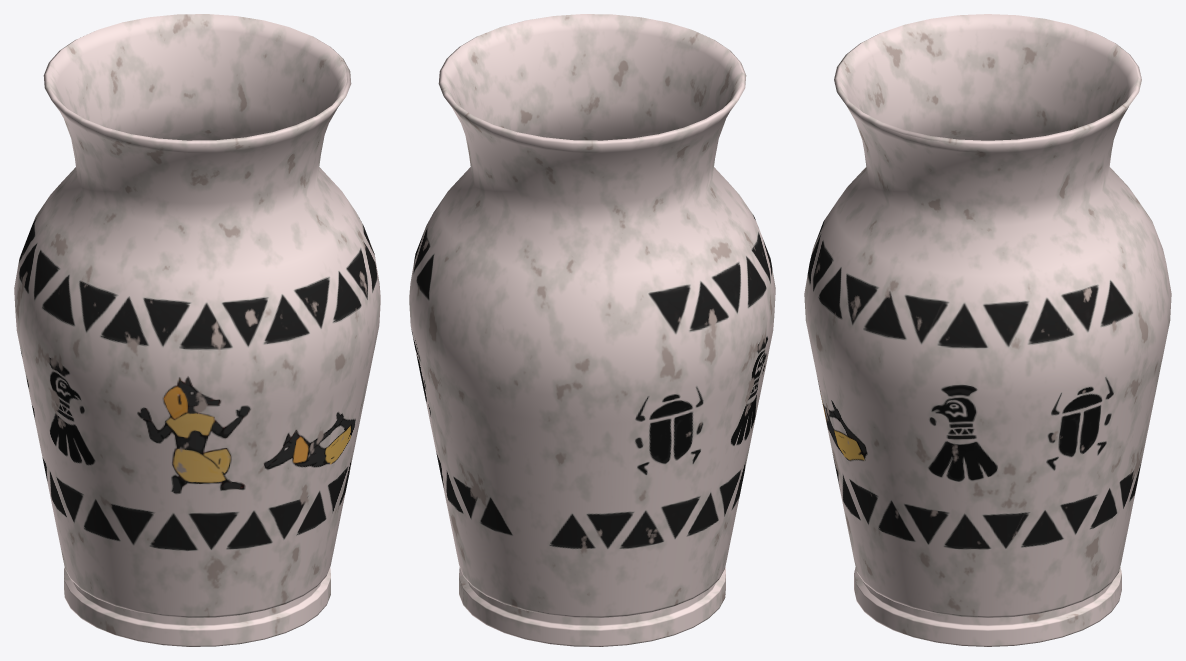
The model's file is Vase1.gltf.
The picture shows the model from 3 angles, left to right: view 1: azimuth 30°, elevation 25°; view 2: azimuth 150°, elevation 25°; view 3: azimuth 270°, elevation 25°; orthographic projection.
Parts seen in each view (by area): view 1: Vase v1; view 2: Vase v1; view 3: Vase v1.
Boxes of the visible parts, x1,y1,x2,y2 form: Vase v1: (14,14,380,646); Vase v1: (409,14,775,646); Vase v1: (804,14,1171,646).
Bounding box in the file's own units: 0.7628 × 1.18 × 0.7628.
Materials: 1 (1 with a texture image).
